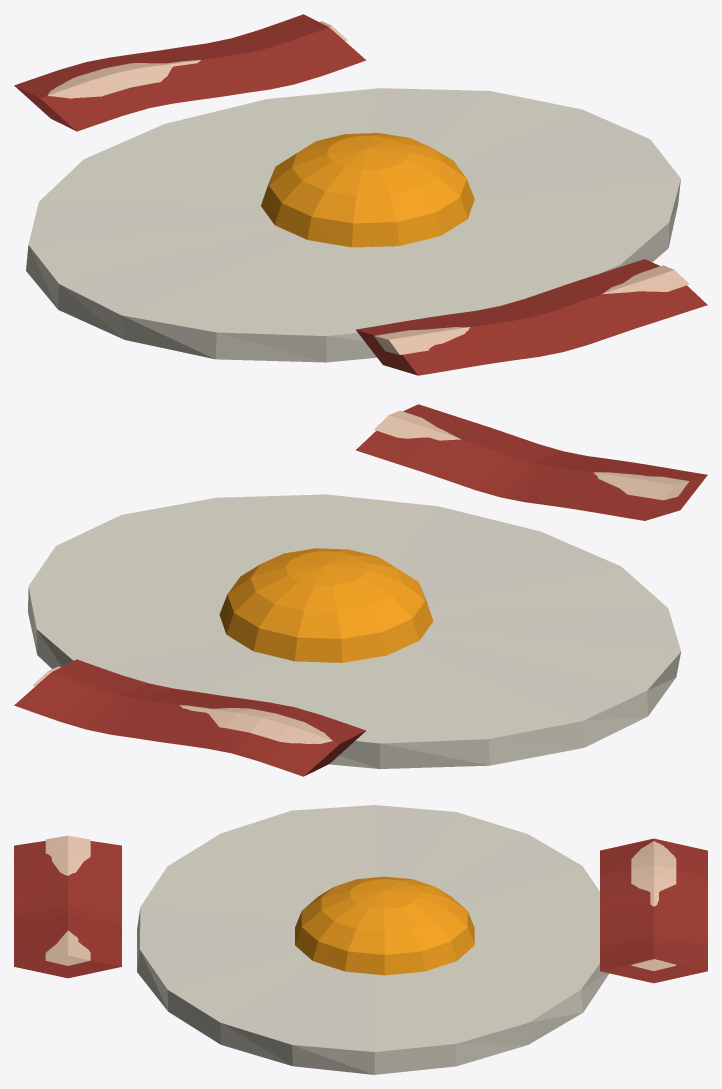
Rendered from VFP_Secret_FulingFriedEgg.obj.
3 renders of one model, top to bottom at view 1: azimuth 30°, elevation 25°; view 2: azimuth 150°, elevation 25°; view 3: azimuth 270°, elevation 25°, orthographic. The views are drawn at different scales.
Parts seen in each view (by area): view 1: White, Bacon, Yolk, Bacon_bacon_fat; view 2: White, Bacon, Yolk, Bacon_bacon_fat; view 3: White, Bacon, Yolk, Bacon_bacon_fat.
Boxes of the visible parts, left/top/right/bottom form: White: left=26, top=88, right=680, bottom=362; Bacon: left=14, top=14, right=707, bottom=375; Yolk: left=261, top=133, right=474, bottom=247; Bacon_bacon_fat: left=47, top=21, right=689, bottom=354; White: left=28, top=494, right=681, bottom=768; Bacon: left=14, top=404, right=707, bottom=776; Yolk: left=219, top=548, right=433, bottom=662; Bacon_bacon_fat: left=32, top=410, right=689, bottom=744; White: left=137, top=805, right=609, bottom=1074; Bacon: left=14, top=838, right=707, bottom=983; Yolk: left=295, top=876, right=474, bottom=975; Bacon_bacon_fat: left=45, top=835, right=676, bottom=970.
Bounding box in the file's own units: 0.2867 × 0.0496 × 0.3388.
